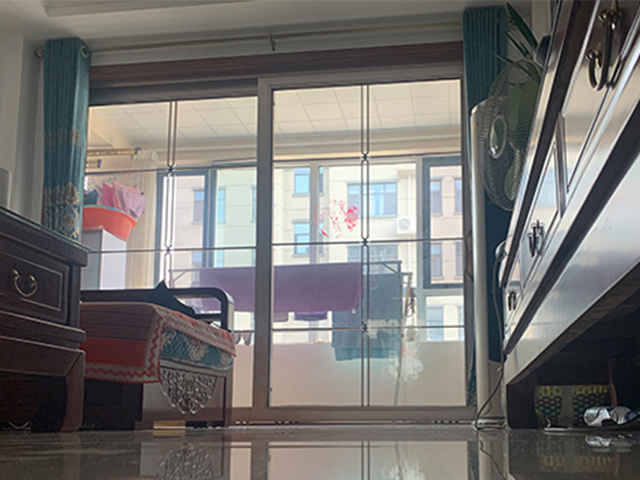book: (135, 418, 186, 431)
cabinet: (494, 1, 640, 431)
sofa: (78, 281, 236, 426)
table: (1, 206, 89, 434)
wire: (472, 365, 503, 433)
